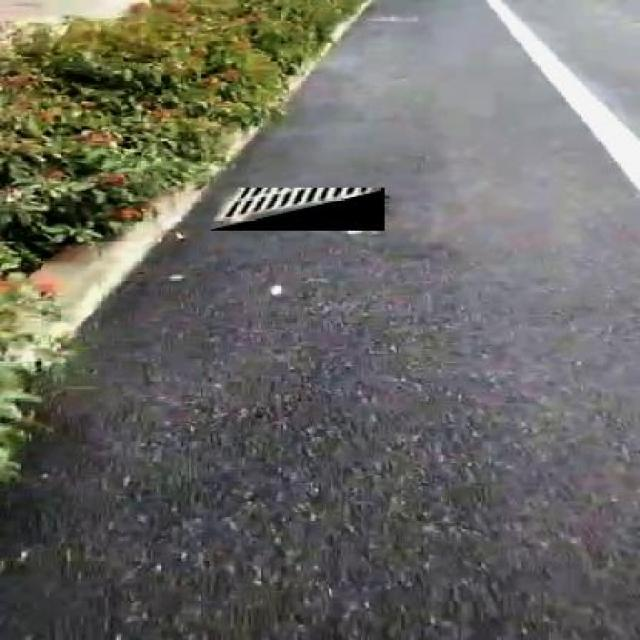Manhole: (210, 188, 384, 230)
